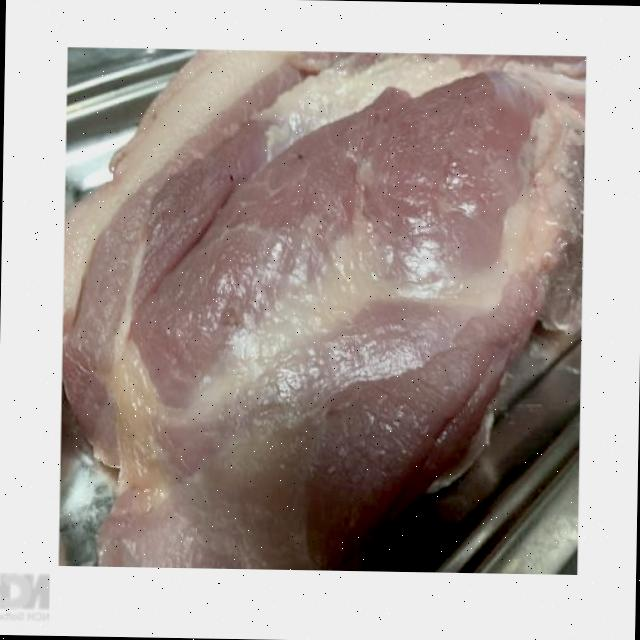rotten meat: (34, 27, 608, 580)
